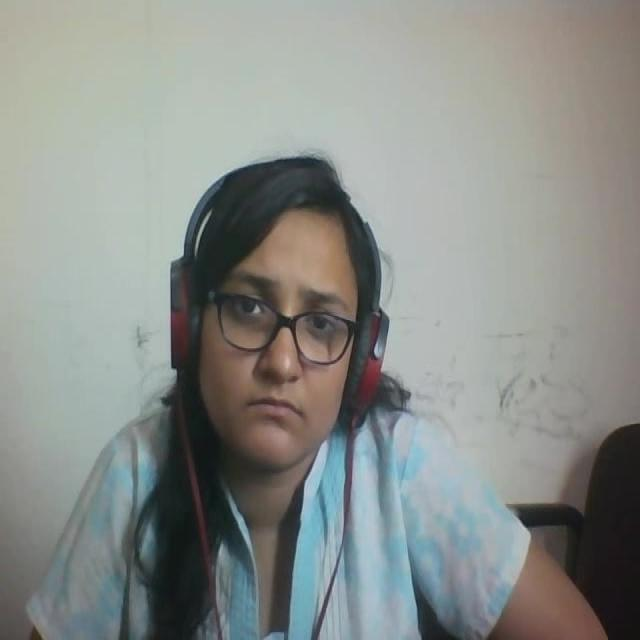Engaged: (151, 137, 442, 483)
